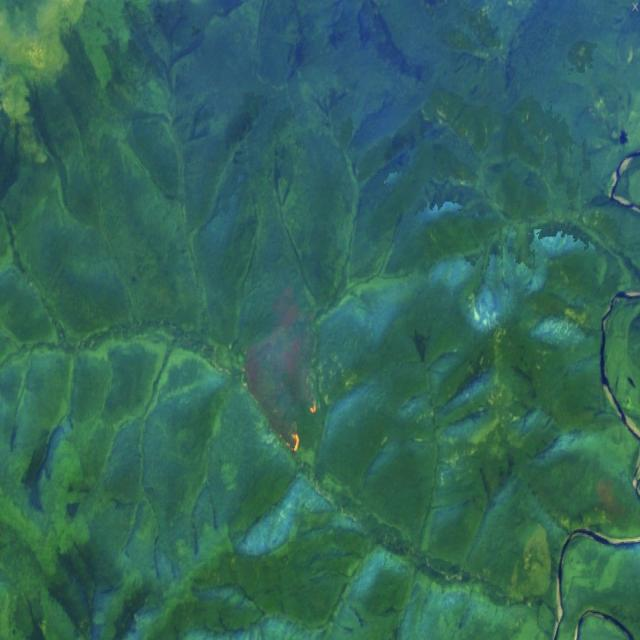fire: (280, 397, 320, 459)
